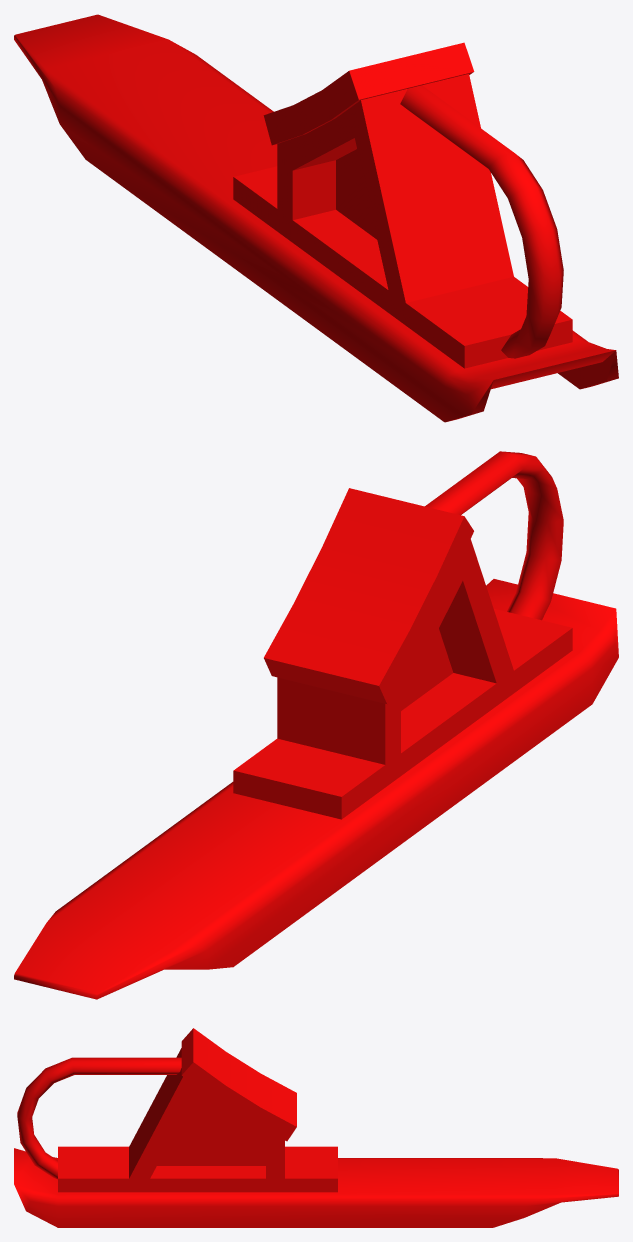
File: Brake_show.gltf
3 views of the same model, one above another, from view 1: azimuth 30°, elevation 25°; view 2: azimuth 150°, elevation 25°; view 3: azimuth 270°, elevation 25° (orthographic). The views are drawn at different scales.
Parts seen in each view (by area): view 1: Brake_show; view 2: Brake_show; view 3: Brake_show.
Part boxes in pixels (box(x1,y1,x2,y2)): Brake_show: box(14, 14, 618, 422); Brake_show: box(14, 451, 618, 999); Brake_show: box(14, 1028, 618, 1227).
Size of the model in its own units: 0.082 by 0.141 by 0.48.
